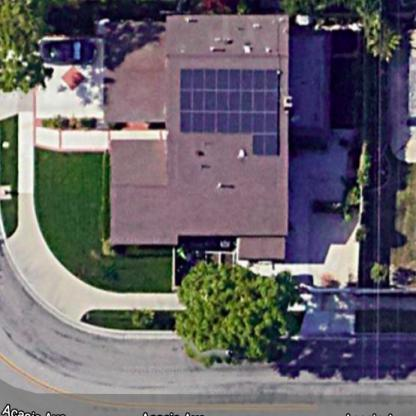car: (36, 34, 101, 69)
solar_panel: (170, 57, 282, 162)
